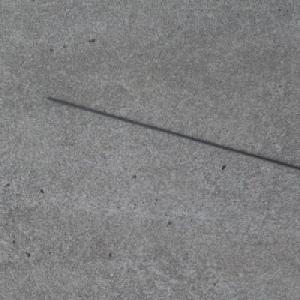LuggagePart: (44, 96, 300, 171)
